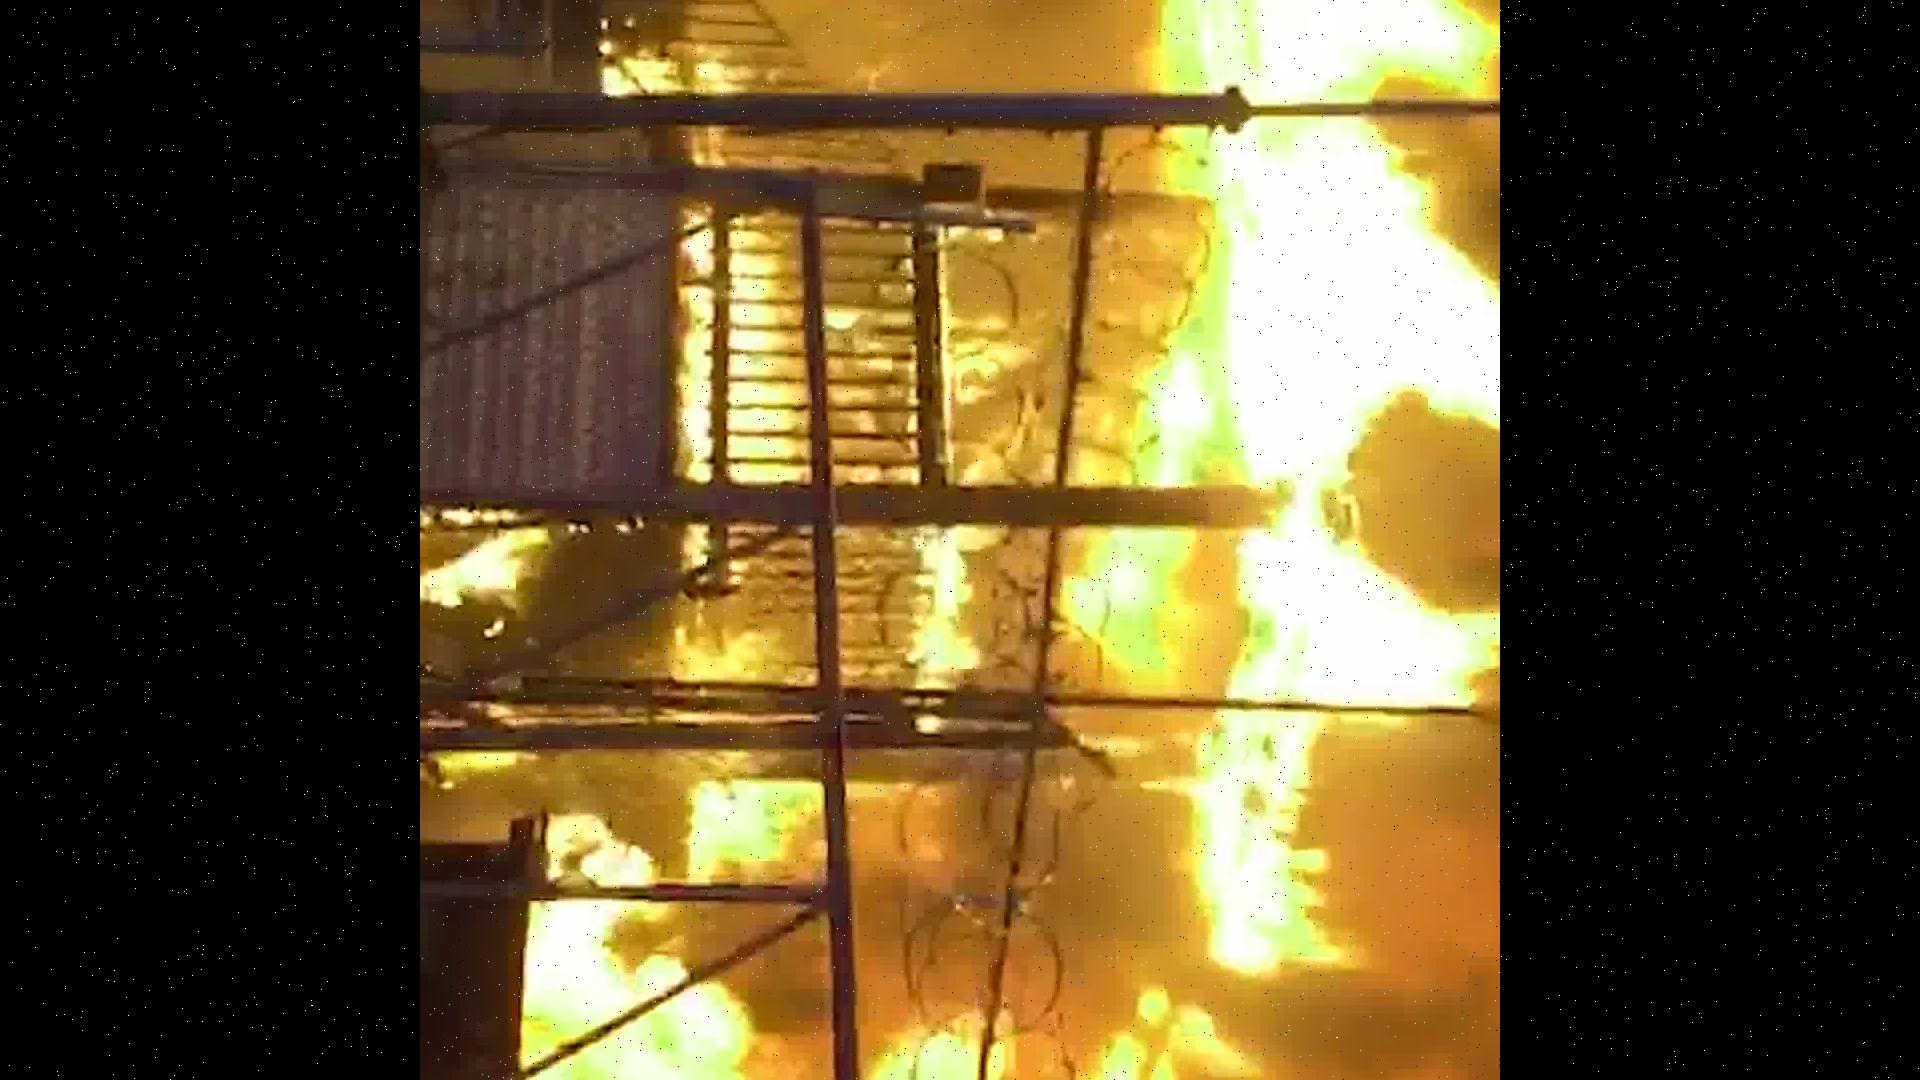fire: (1006, 0, 1501, 1080), (518, 782, 884, 1080)
